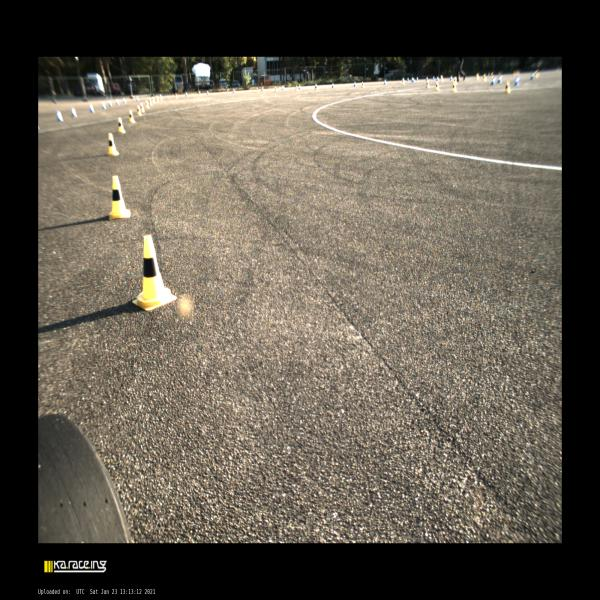blue_cone: (57, 110, 64, 122), (72, 108, 77, 117), (90, 104, 95, 113), (102, 102, 107, 110), (491, 78, 495, 85), (498, 76, 501, 83), (109, 101, 112, 107), (116, 99, 119, 105), (123, 98, 126, 103), (136, 96, 139, 101), (332, 82, 334, 88), (412, 78, 415, 82), (207, 90, 209, 95), (354, 81, 356, 86), (384, 79, 386, 84), (426, 76, 428, 81), (437, 76, 439, 81), (450, 75, 452, 80), (407, 78, 409, 82), (416, 77, 418, 81), (233, 89, 235, 92), (186, 92, 187, 97), (433, 76, 434, 81), (262, 87, 263, 91), (282, 86, 283, 90), (299, 85, 300, 89), (412, 77, 413, 81)
yellow_cone: (132, 235, 177, 310), (108, 176, 130, 219), (107, 133, 119, 156), (118, 118, 126, 134), (130, 110, 136, 123), (504, 81, 510, 93), (137, 105, 142, 116), (452, 83, 457, 93), (435, 81, 440, 91), (140, 103, 145, 112), (146, 100, 150, 109), (149, 99, 153, 106), (426, 81, 429, 88), (483, 74, 486, 81), (455, 77, 458, 84), (198, 92, 202, 97), (152, 97, 155, 103), (157, 96, 160, 102), (315, 84, 318, 90), (361, 82, 364, 88), (476, 74, 479, 80), (160, 94, 162, 101), (296, 85, 298, 91), (402, 78, 404, 84), (176, 94, 178, 99), (227, 90, 229, 94), (256, 88, 258, 92), (275, 86, 276, 92)
